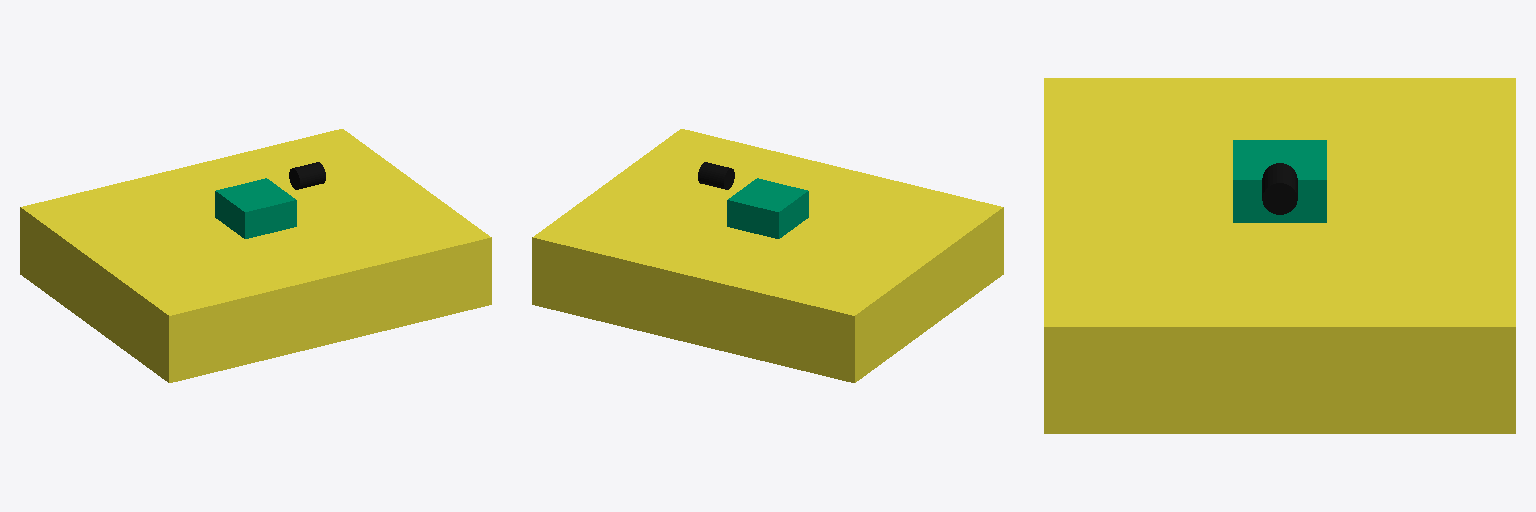
The robot description file, URDF, robot "tabv":
<?xml version="1.0"?>
<robot name="tabv">

  <link name="base_link">
    <inertial>
      <mass value="1.5"/>
      <inertia ixx="0.05" ixy="0" ixz="0" iyy="0.05" iyz="0" izz="0.08"/>
    </inertial>
    <visual>
      <origin xyz="0 0 -0.20" rpy="0 0 0"/>
      <geometry>
        <mesh filename="package://gazebo_sim/meshes/TABV.dae"/>
      </geometry>
    </visual>
    <collision>
      <origin xyz="0 0 -0.05" rpy="0 0 0"/>
      <geometry><box size="0.5 0.4 0.1"/></geometry>
    </collision>
  </link>

  <gazebo reference="base_link">
    <turnGravityOff>false</turnGravityOff>
  </gazebo>

  <!-- depth_cam link (TF帧可见) -->
  <link name="depth_cam">
    <visual>
      <origin xyz="-0.02 0 0" rpy="0 1.57 0"/>
      <geometry><cylinder radius="0.015" length="0.04"/></geometry>
      <material name="black"><color rgba="0.1 0.1 0.1 1"/></material>
    </visual>
  </link>
  <joint name="cam_joint" type="fixed">
    <parent link="base_link"/>
    <child link="depth_cam"/>
    <origin xyz="0.1 0 0.05" rpy="0 0 0"/>
  </joint>

  <gazebo reference="depth_cam">
    <sensor type="depth" name="d435_camera">
      <always_on>1</always_on>
      <update_rate>30</update_rate>
      <camera>
        <horizontal_fov>1.51844</horizontal_fov>
        <image><width>640</width><height>480</height></image>
        <clip><near>0.05</near><far>8.0</far></clip>
      </camera>
      <plugin name="d435_plugin" filename="libgazebo_ros_depth_camera.so">
        <cameraName>d435</cameraName>
        <alwaysOn>true</alwaysOn>
        <updateRate>30</updateRate>
        <imageTopicName>color/image_raw</imageTopicName>
        <depthImageTopicName>depth/image_raw</depthImageTopicName>
        <depthImageCameraInfoTopicName>depth/camera_info</depthImageCameraInfoTopicName>
        <pointCloudTopicName>depth/points</pointCloudTopicName>
        <frameName>depth_cam</frameName>
        <clipNear>0.05</clipNear>
        <clipFar>8.0</clipFar>
        <hackBaseline>0.0</hackBaseline>
        <CxPrime>0</CxPrime>
        <Cx>320.0</Cx><Cy>240.0</Cy>
        <focalLength>337.2</focalLength>
      </plugin>
    </sensor>
  </gazebo>

  <!-- base_link position marker (red box) -->
  <link name="base_marker">
    <visual>
      <origin xyz="0 0 0" rpy="0 0 0"/>
      <geometry><box size="0.08 0.08 0.08"/></geometry>
    </visual>
  </link>
  <gazebo reference="base_marker">
    <material>Gazebo/Red</material>
  </gazebo>
  <joint name="marker_joint" type="fixed">
    <parent link="base_link"/>
    <child link="base_marker"/>
  </joint>

  <!-- collision box visual (blue) -->
  <link name="collision_viz">
    <visual>
      <origin xyz="0 0 -0.05" rpy="0 0 0"/>
      <geometry><box size="0.5 0.4 0.1"/></geometry>
    </visual>
  </link>
  <gazebo reference="collision_viz">
    <material>Gazebo/Blue</material>
  </gazebo>
  <joint name="collision_viz_joint" type="fixed">
    <parent link="base_link"/>
    <child link="collision_viz"/>
  </joint>

  <gazebo>
    <plugin name="p3d" filename="libgazebo_ros_p3d.so">
      <alwaysOn>true</alwaysOn>
      <updateRate>100</updateRate>
      <bodyName>base_link</bodyName>
      <topicName>ground_truth/odom</topicName>
      <frameName>world</frameName>
      <xyzOffsets>0 0 0</xyzOffsets>
      <rpyOffsets>0 0 0</rpyOffsets>
    </plugin>
  </gazebo>

</robot>

--- What the picture shows (computed from the rendered views, not written in the file) ---
The picture shows the robot from 3 angles, left to right: view 1: azimuth 30°, elevation 25°; view 2: azimuth 150°, elevation 25°; view 3: azimuth 270°, elevation 25°; orthographic projection.
Model tabv with 4 links and 3 joints (3 fixed), rooted at base_link, posed every joint at zero.
Visible links, largest first — view 1: collision_viz, base_marker, depth_cam; view 2: collision_viz, base_marker, depth_cam; view 3: collision_viz, base_marker, depth_cam.
Boxes of the visible links, left/top/right/bottom form: collision_viz: left=20, top=129, right=491, bottom=382; base_marker: left=215, top=178, right=296, bottom=238; depth_cam: left=289, top=162, right=325, bottom=189; collision_viz: left=532, top=129, right=1003, bottom=382; base_marker: left=727, top=178, right=808, bottom=238; depth_cam: left=698, top=162, right=734, bottom=189; collision_viz: left=1044, top=78, right=1515, bottom=433; base_marker: left=1233, top=140, right=1326, bottom=222; depth_cam: left=1262, top=163, right=1297, bottom=214.
Size in the robot's own frame: 0.5 by 0.4 by 0.165 metres.
0 mesh visuals loaded from 1 distinct referenced files (none loaded); not drawn: 1 (reference not matched to a file when rendering).
